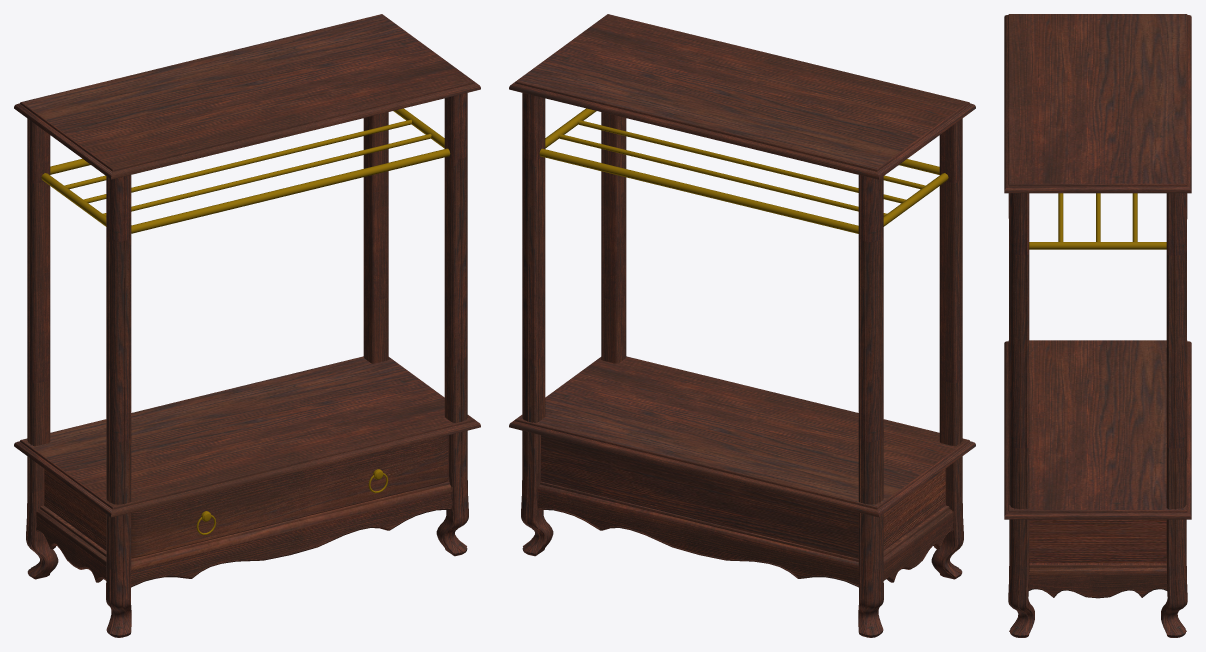
File: rack.fbx
3 renders of one model, left to right at view 1: azimuth 30°, elevation 25°; view 2: azimuth 150°, elevation 25°; view 3: azimuth 270°, elevation 25°, orthographic. The views are drawn at different scales.
Visible parts, largest first — view 1: Board_Top_1, Board_Top_, Drawer2, Leg3, Leg4, Leg1, metal_pipe, Board1, Leg2, Board5, Box, Board2; view 2: Board_Top_1, Board_Top_, Box, Leg1, Leg2, Leg3, metal_pipe, Board3, Leg4, Board5, Board2; view 3: Board_Top_1, Board_Top_, Leg2, Leg4, Box, Board4, metal_pipe, Board5.
Part boxes in pixels (x1=…): Board_Top_1: x1=14, y1=14, x2=480, y2=179; Board_Top_: x1=14, y1=356, x2=480, y2=517; Drawer2: x1=131, y1=435, x2=448, y2=557; Leg3: x1=106, y1=175, x2=131, y2=637; Leg4: x1=436, y1=93, x2=468, y2=556; Leg1: x1=26, y1=118, x2=58, y2=579; metal_pipe: x1=41, y1=108, x2=450, y2=233; Board1: x1=131, y1=492, x2=452, y2=587; Leg2: x1=363, y1=112, x2=388, y2=363; Board5: x1=36, y1=481, x2=452, y2=570; Box: x1=44, y1=435, x2=449, y2=558; Board2: x1=36, y1=516, x2=106, y2=582; Board_Top_1: x1=509, y1=14, x2=975, y2=179; Board_Top_: x1=509, y1=356, x2=975, y2=517; Box: x1=540, y1=435, x2=945, y2=558; Leg1: x1=858, y1=175, x2=883, y2=637; Leg2: x1=521, y1=93, x2=553, y2=556; Leg3: x1=931, y1=118, x2=963, y2=579; metal_pipe: x1=539, y1=108, x2=948, y2=233; Board3: x1=537, y1=492, x2=858, y2=587; Leg4: x1=601, y1=112, x2=626, y2=363; Board5: x1=537, y1=481, x2=953, y2=570; Board2: x1=883, y1=516, x2=953, y2=582; Board_Top_1: x1=1004, y1=14, x2=1191, y2=193; Board_Top_: x1=1004, y1=340, x2=1191, y2=519; Leg2: x1=1161, y1=193, x2=1187, y2=637; Leg4: x1=1008, y1=193, x2=1034, y2=637; Box: x1=1029, y1=519, x2=1166, y2=563; Board4: x1=1028, y1=575, x2=1167, y2=598; metal_pipe: x1=1029, y1=193, x2=1166, y2=249; Board5: x1=1029, y1=563, x2=1166, y2=575.
Size of the model in its own units: 5.81 by 7.09 by 2.64.
Materials: 2 (1 with a texture image).
